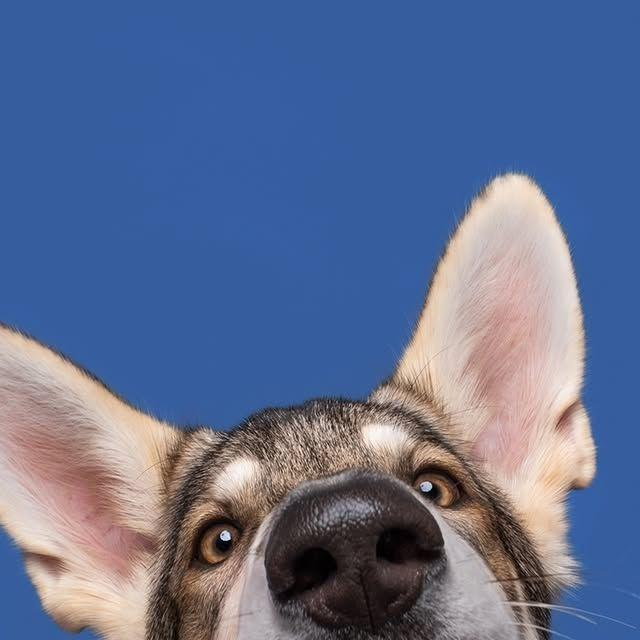adult_dog: (1, 176, 598, 639)
